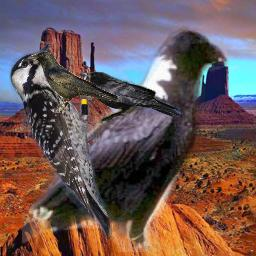Crow: (22, 21, 229, 252), (26, 51, 119, 113), (78, 71, 181, 124)
Woodpecker: (9, 41, 112, 239)
